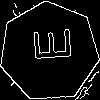E: (24, 26, 71, 63)
